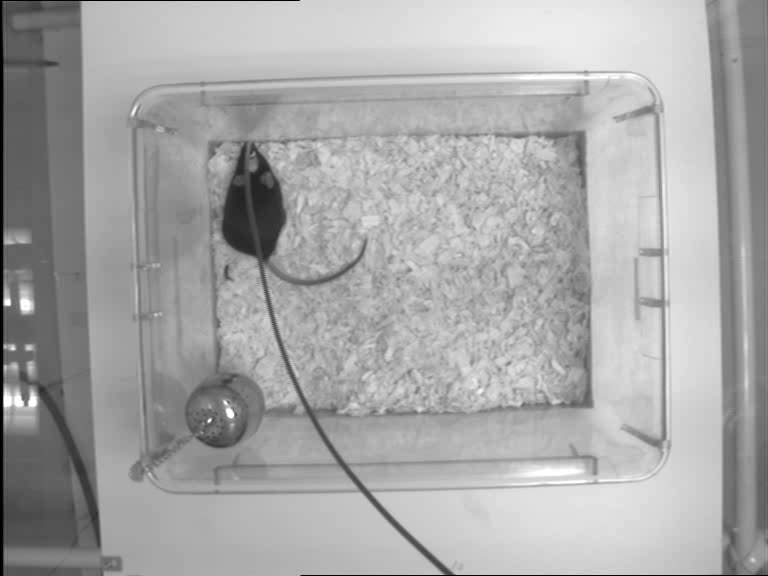mice: (220, 140, 372, 288)
